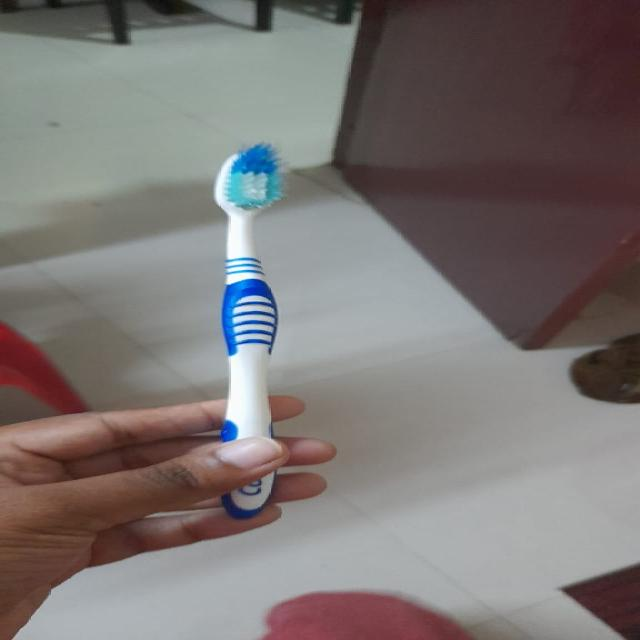Tooth_Brush - Non Recyclable: (210, 141, 288, 519)
